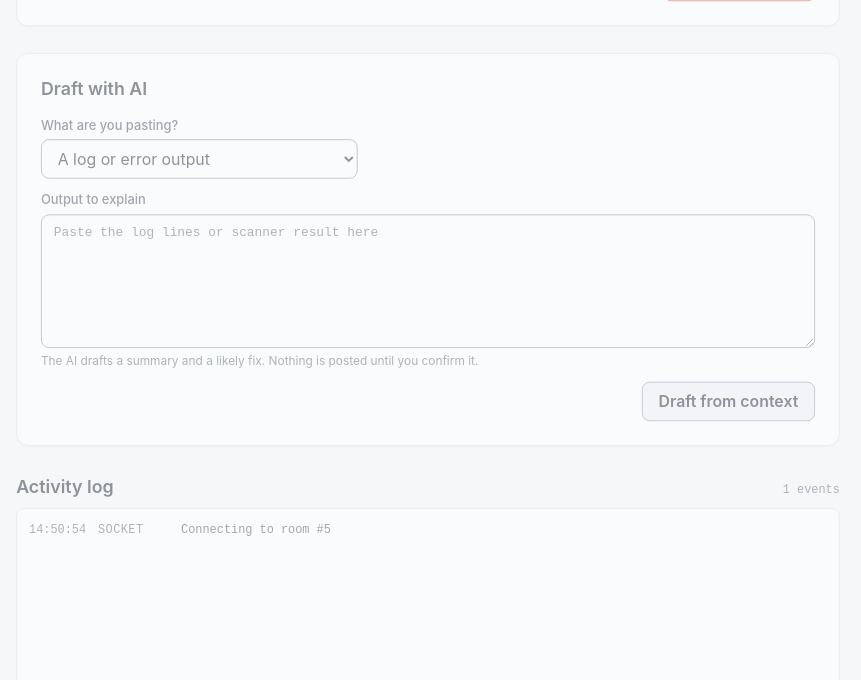
Test: RoomDetailsPage › AI drafts › shows the draft once when it arrives by POST response and again over the socket
(page scrolled)
In the text box labelled "Output to explain": coordinates (428, 281) x1=41 y1=214 x2=815 y2=348, type "log"
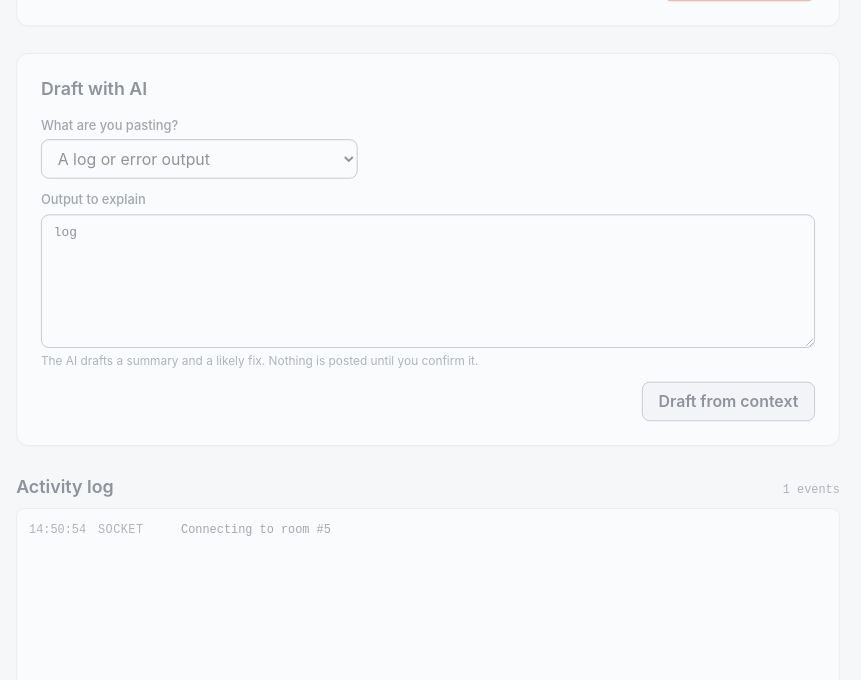
Click the button "Draft from context": coordinates (728, 401) x1=642 y1=381 x2=815 y2=421
(page scrolled)
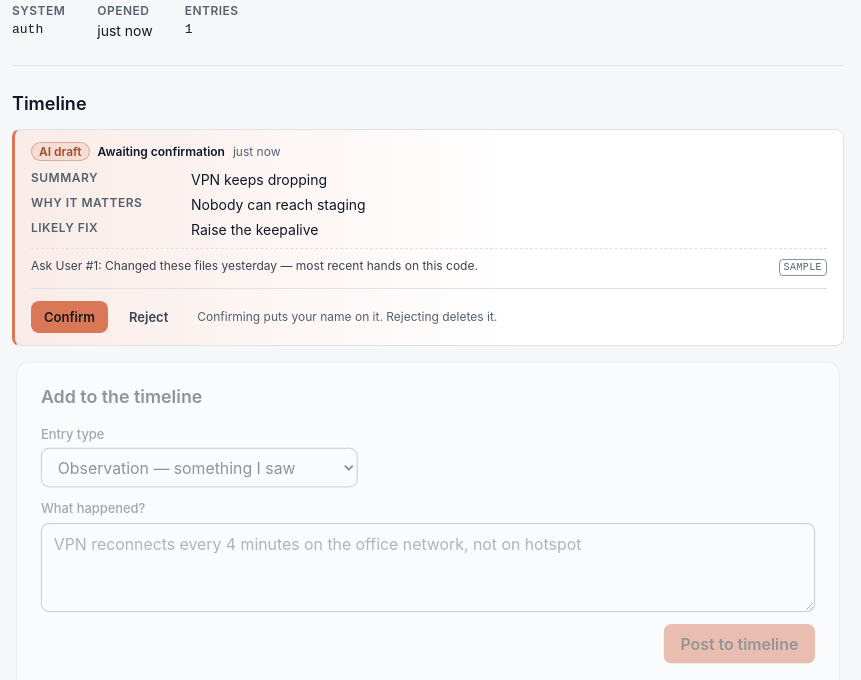
Now the text "Raise the keepalive" is shown once, box x1=191 y1=221 x2=318 y2=238
